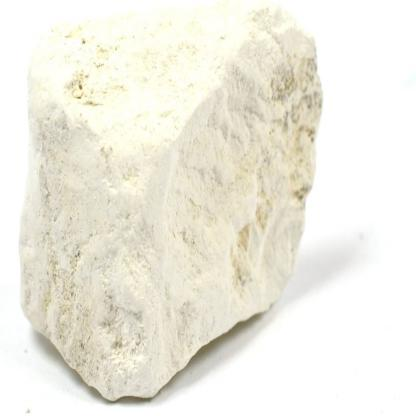Sedimentary_Chalk: (15, 5, 335, 398)
